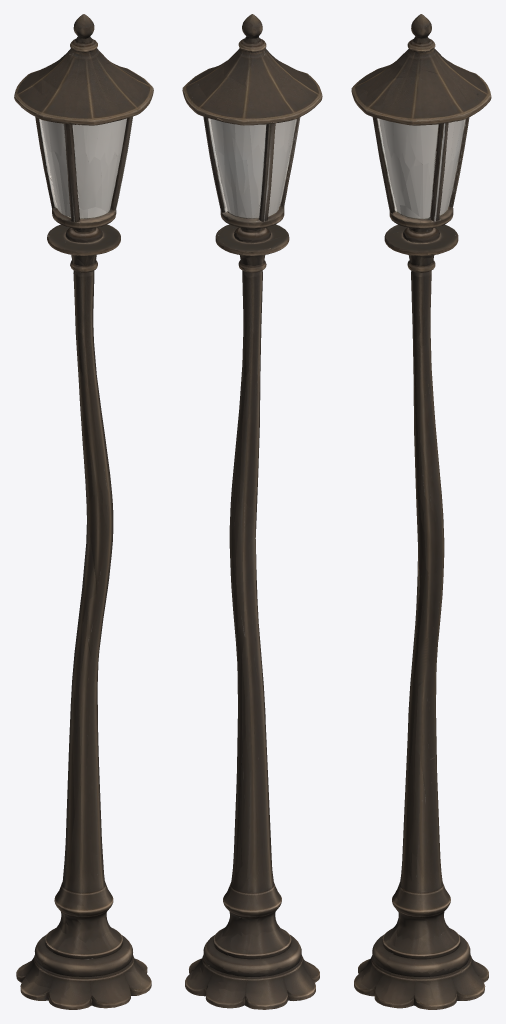
The model's file is pull-lamppost-a.glb.
3 views of the same model, side by side, from view 1: azimuth 30°, elevation 25°; view 2: azimuth 150°, elevation 25°; view 3: azimuth 330°, elevation 25° (orthographic).
Parts seen in each view (by area): view 1: output_unwrapped; view 2: output_unwrapped; view 3: output_unwrapped.
Part boxes in pixels (bbox=[...]): output_unwrapped: bbox=[14, 14, 153, 1009]; output_unwrapped: bbox=[182, 14, 322, 1009]; output_unwrapped: bbox=[351, 14, 491, 1009].
Size of the model in its own units: 0.2471 by 1.9 by 0.2479.
1 material, 1 textured.
